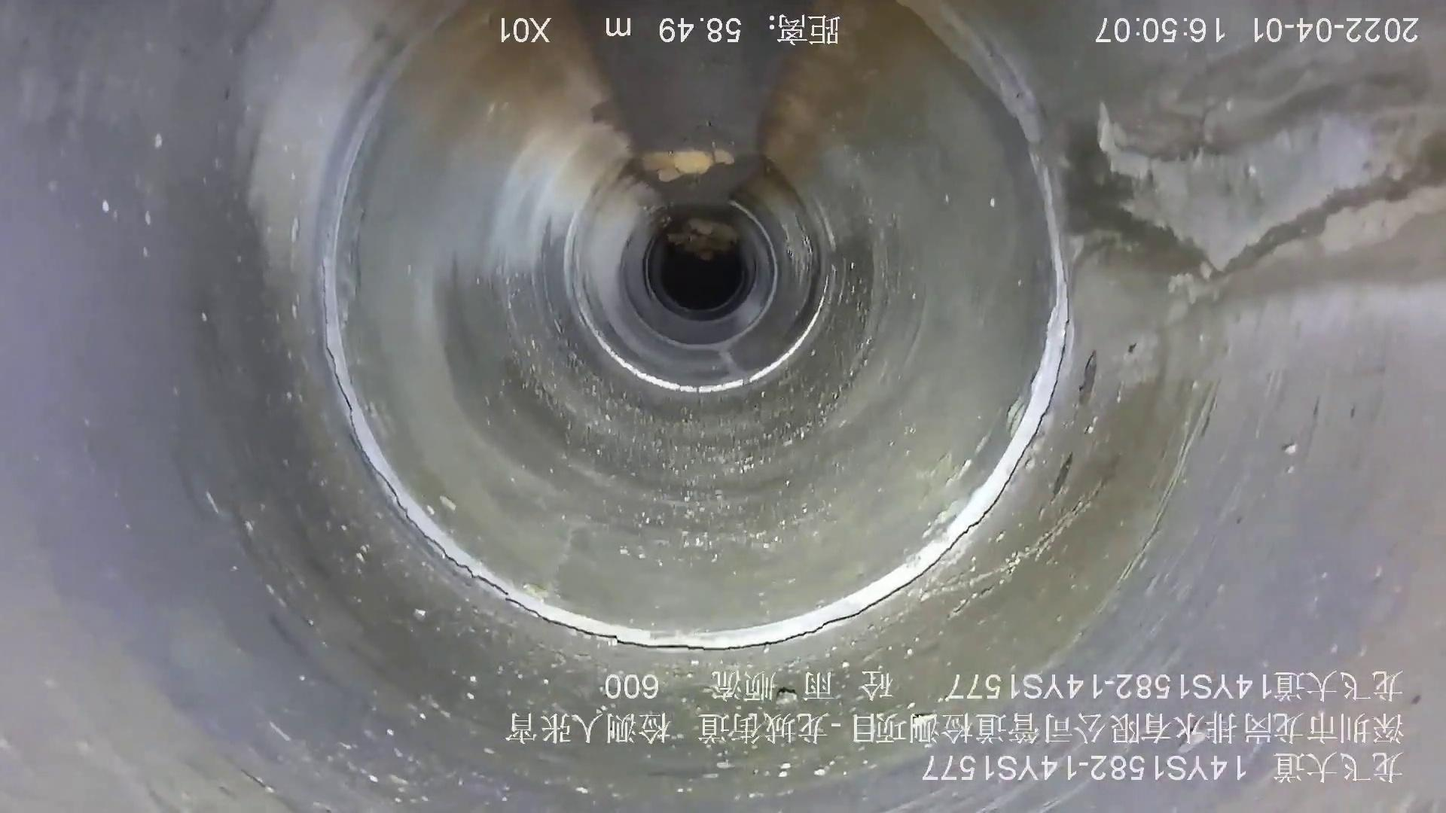CJ: (639, 148, 734, 182), (666, 216, 739, 260)
CKTJ: (315, 1, 1072, 650), (579, 265, 836, 394), (619, 197, 780, 353)
